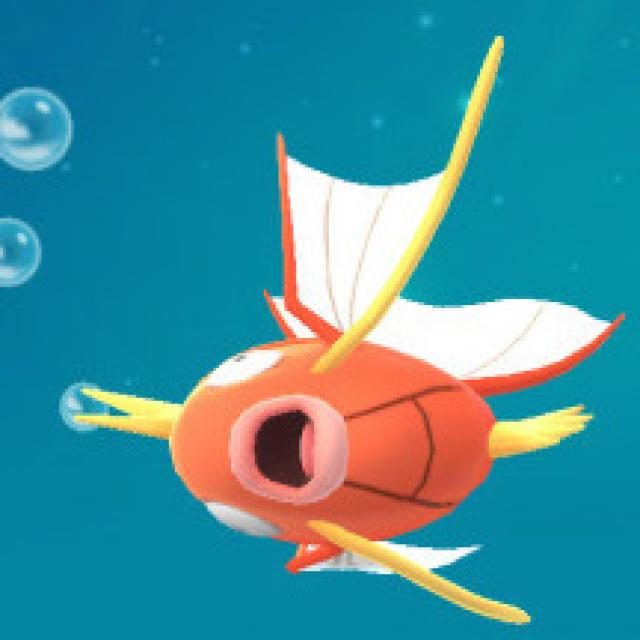Magikarp: (155, 284, 608, 565)
